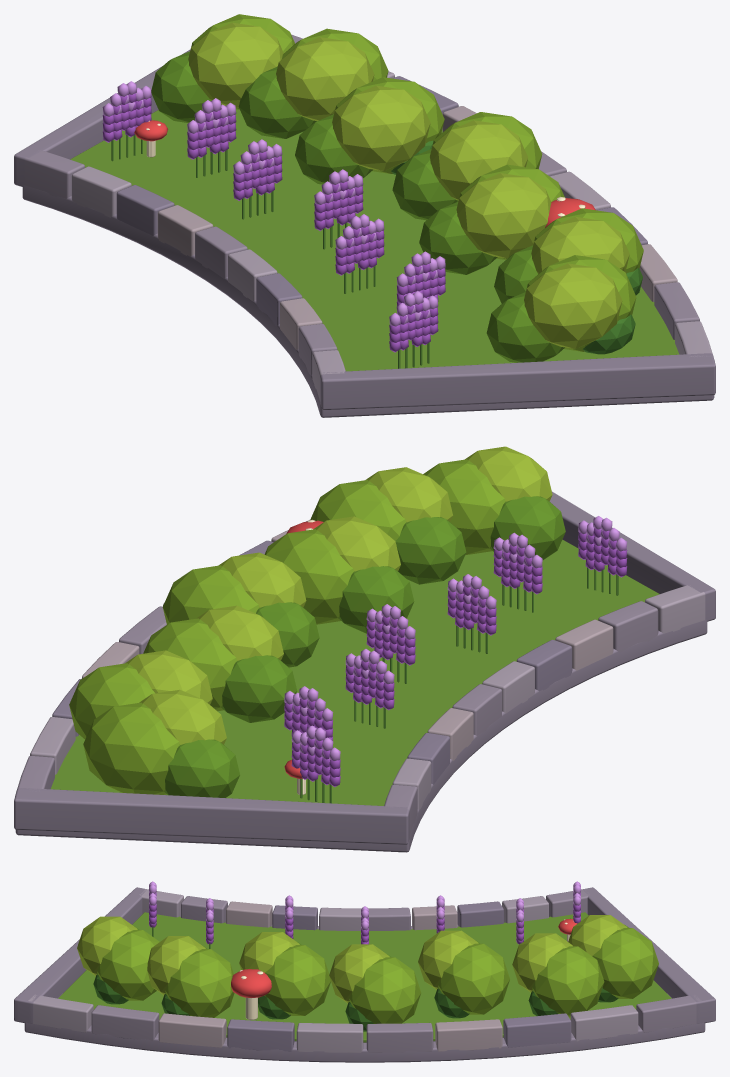
The model's file is Flowerbed_Curved.glb.
The picture shows the model from 3 angles, top to bottom: view 1: azimuth 30°, elevation 25°; view 2: azimuth 150°, elevation 25°; view 3: azimuth 270°, elevation 25°; orthographic projection. The views are drawn at different scales.
Visible parts, largest first — view 1: Flowerbed_Curved__Foliage, Flowerbed_Curved__Stonework, Flowerbed_Curved__Soil, Flowerbed_Curved__Mushrooms; view 2: Flowerbed_Curved__Foliage, Flowerbed_Curved__Stonework, Flowerbed_Curved__Soil; view 3: Flowerbed_Curved__Stonework, Flowerbed_Curved__Foliage, Flowerbed_Curved__Soil, Flowerbed_Curved__Mushrooms.
Boxes of the visible parts, x1=… form: Flowerbed_Curved__Foliage: x1=102, y1=14, x2=643, y2=368; Flowerbed_Curved__Stonework: x1=14, y1=34, x2=715, y2=417; Flowerbed_Curved__Soil: x1=70, y1=109, x2=679, y2=371; Flowerbed_Curved__Mushrooms: x1=134, y1=120, x2=595, y2=227; Flowerbed_Curved__Foliage: x1=69, y1=446, x2=627, y2=803; Flowerbed_Curved__Stonework: x1=14, y1=491, x2=715, y2=852; Flowerbed_Curved__Soil: x1=51, y1=539, x2=659, y2=805; Flowerbed_Curved__Stonework: x1=14, y1=887, x2=715, y2=1062; Flowerbed_Curved__Foliage: x1=77, y1=881, x2=658, y2=1031; Flowerbed_Curved__Soil: x1=58, y1=912, x2=671, y2=1042; Flowerbed_Curved__Mushrooms: x1=231, y1=918, x2=577, y2=1019.
Bounding box in the file's own units: 8.18 × 2.18 × 16.74.
